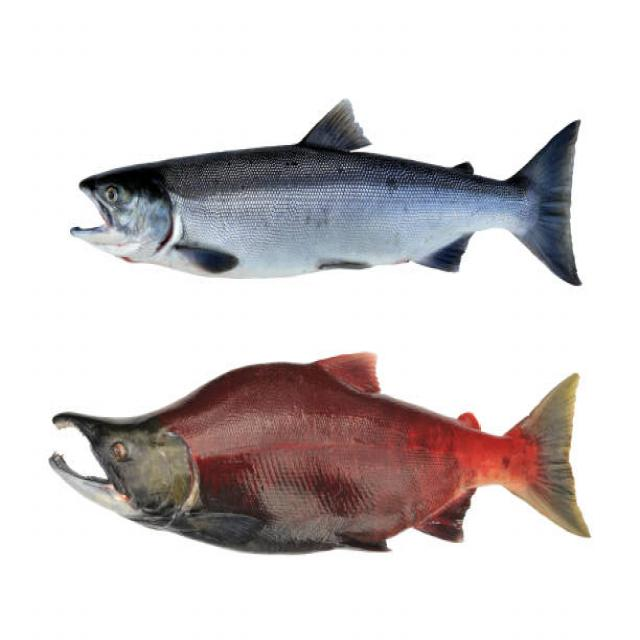salmon: (47, 332, 608, 570), (58, 82, 603, 307)
